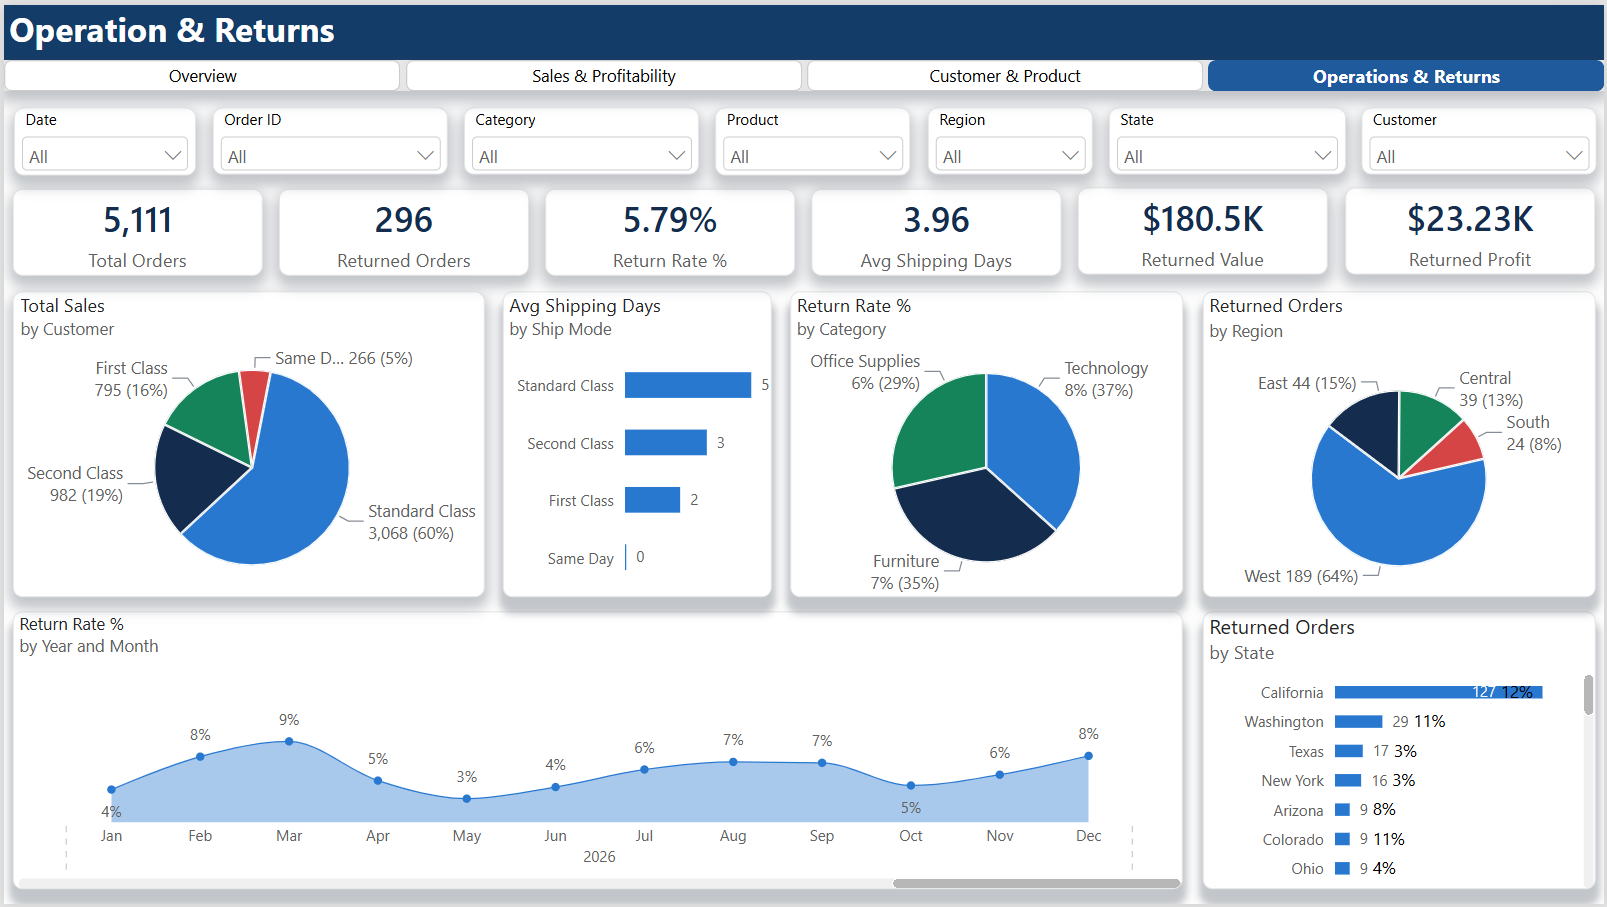

What the dashboard file says about the page in this screenshot:
{"tool":"powerbi","page":{"name":"Operations & Returns","canvas":[1280,720],"ordinal":3},"visuals":[{"type":"areaChart","fields":{"Category":["DimDate.Year","DimDate.Month"],"Y":["Returns.Return Rate %"]},"box":[7,485,936,223],"z":0},{"type":"clusteredBarChart","fields":{"Category":["Orders.State/Province"],"Y":["Returns.Returned Orders"]},"box":[959,485,314,223],"z":1000},{"type":"pieChart","title":"Total Sales","fields":{"Category":["Orders.Ship Mode"],"Y":["_Measures.Total Orders"]},"box":[7,229,377,245],"z":2000},{"type":"clusteredBarChart","fields":{"Category":["Orders.Ship Mode"],"Y":["_Measures.Avg Shipping Days"]},"box":[399.2,229,215,245],"z":3000},{"type":"pieChart","fields":{"Category":["Orders.Category"],"Y":["Returns.Return Rate %"]},"box":[629.4,228.7,314.1,245.2],"z":4000},{"type":"pieChart","fields":{"Category":["Orders.Region"],"Y":["Returns.Returned Orders"]},"box":[958.6,228.7,314.1,245.2],"z":5000},{"type":"shape","box":[0,0,1280.5,46.5],"z":6000},{"type":"textbox","box":[2.9,0,1247.5,46.5],"z":7000},{"type":"card","fields":{"Values":["_Measures.Total Orders"]},"box":[6.8,147.3,200.6,70],"z":8000},{"type":"card","fields":{"Values":["Returns.Returned Orders"]},"box":[220.4,147.5,200,70],"z":9000},{"type":"card","fields":{"Values":["Returns.Return Rate %"]},"box":[433.3,147.5,200,70],"z":10000},{"type":"card","fields":{"Values":["_Measures.Avg Shipping Days"]},"box":[646.3,146.9,199.7,70],"z":11000},{"type":"card","fields":{"Values":["Returns.Returned Sales"]},"box":[859,146.3,199.7,70],"z":12000},{"type":"card","fields":{"Values":["Returns.Returned Profit"]},"box":[1073,146.3,199.7,70],"z":13000},{"type":"slicer","fields":{"Values":["DimDate.Year","DimDate.Month","DimDate.Day"]},"box":[7.6,82.2,145.8,54.4],"z":14000},{"type":"slicer","fields":{"Values":["Orders.Order ID"]},"box":[166.8,82.1,187.7,54.1],"z":15000},{"type":"slicer","fields":{"Values":["Orders.Category"]},"box":[368,82.1,187.7,54.1],"z":16000},{"type":"slicer","fields":{"Values":["Orders.Region"]},"box":[738.6,82,132.4,54.1],"z":17000},{"type":"slicer","fields":{"Values":["Orders.State/Province"]},"box":[884.5,82,188,54.3],"z":18000},{"type":"slicer","fields":{"Values":["Orders.Sub-Category"]},"box":[569.2,81.6,156,55],"z":19000},{"type":"slicer","fields":{"Values":["Orders.Customer Name"]},"box":[1086,82,187.7,54.1],"z":20000},{"type":"pageNavigator","box":[0,44,1280,25],"z":20001}]}

Visuals, with their boxes in screenshot pixels (x1, y1, x2, y2), scaled from the page's 1280x720 canvas onto the 1607x907 screenshot:
areaChart - DimDate.Year x DimDate.Month: bbox=(9, 611, 1184, 892)
clusteredBarChart - Orders.State/Province x Returns.Returned Orders: bbox=(1204, 611, 1598, 892)
"Total Sales" pieChart: bbox=(9, 288, 482, 597)
clusteredBarChart - Orders.Ship Mode x _Measures.Avg Shipping Days: bbox=(501, 288, 771, 597)
pieChart - Orders.Category x Returns.Return Rate %: bbox=(790, 288, 1185, 597)
pieChart - Orders.Region x Returns.Returned Orders: bbox=(1203, 288, 1598, 597)
shape: bbox=(0, 0, 1606, 59)
textbox: bbox=(4, 0, 1570, 59)
card - _Measures.Total Orders: bbox=(9, 186, 260, 274)
card - Returns.Returned Orders: bbox=(277, 186, 528, 274)
card - Returns.Return Rate %: bbox=(544, 186, 795, 274)
card - _Measures.Avg Shipping Days: bbox=(811, 185, 1062, 273)
card - Returns.Returned Sales: bbox=(1078, 184, 1329, 272)
card - Returns.Returned Profit: bbox=(1347, 184, 1598, 272)
slicer - DimDate.Year x DimDate.Month: bbox=(10, 104, 193, 172)
slicer - Orders.Order ID: bbox=(209, 103, 445, 172)
slicer - Orders.Category: bbox=(462, 103, 698, 172)
slicer - Orders.Region: bbox=(927, 103, 1094, 171)
slicer - Orders.State/Province: bbox=(1110, 103, 1346, 172)
slicer - Orders.Sub-Category: bbox=(715, 103, 910, 172)
slicer - Orders.Customer Name: bbox=(1363, 103, 1599, 171)
pageNavigator: bbox=(0, 55, 1606, 87)
